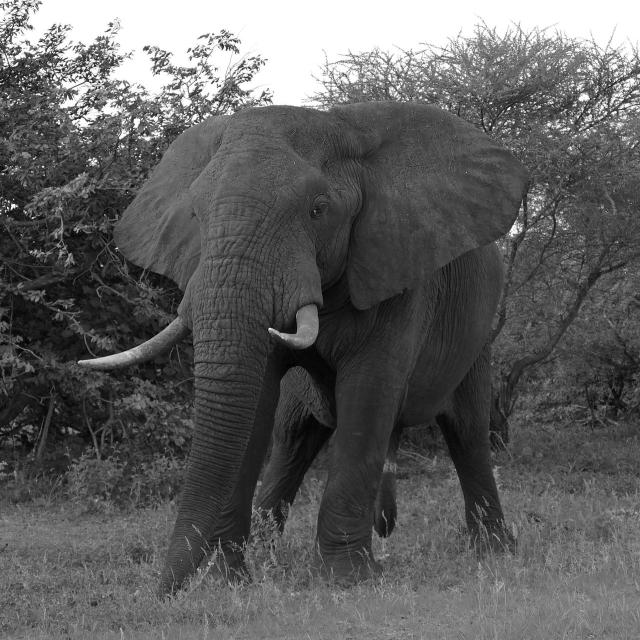Elephant: (77, 100, 530, 602)
